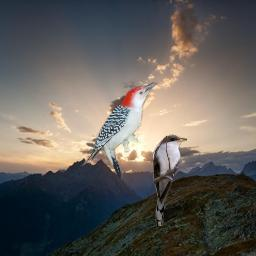Cuckoo: (152, 134, 187, 226)
Woodpecker: (81, 82, 158, 183)
